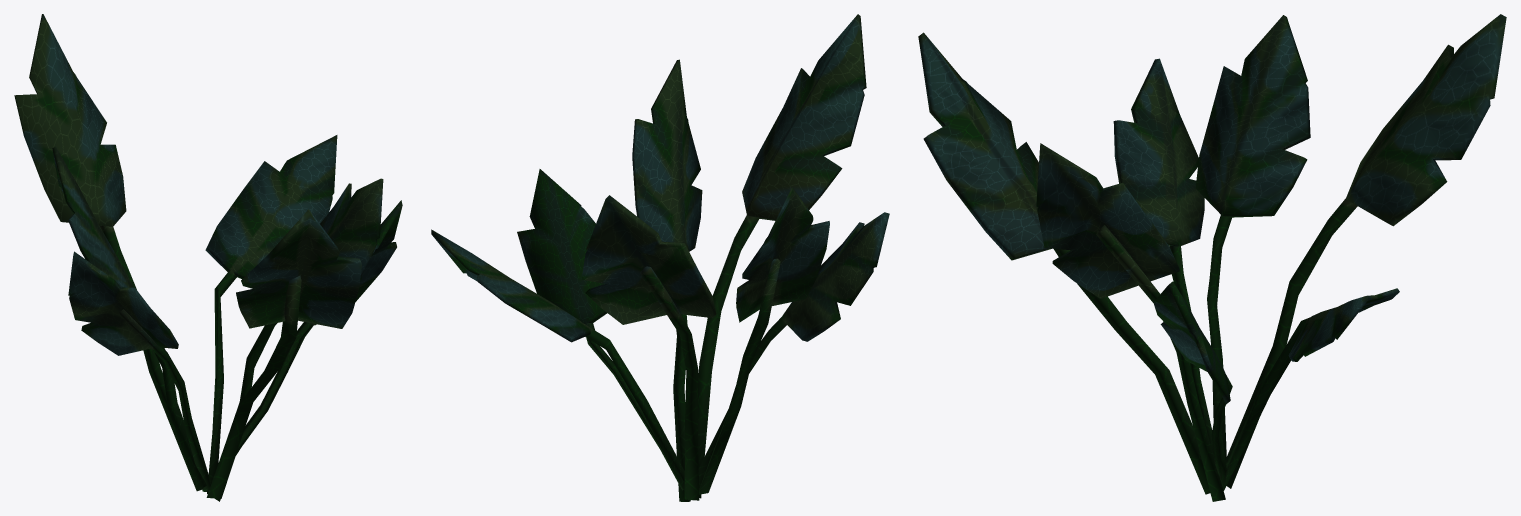
Rendered from floorPlants_V1.fbx.
3 renders of one model, left to right at view 1: azimuth 30°, elevation 25°; view 2: azimuth 150°, elevation 25°; view 3: azimuth 270°, elevation 25°, orthographic. The views are drawn at different scales.
Visible parts, largest first — view 1: LP_PLants; view 2: LP_PLants; view 3: LP_PLants.
Boxes of the visible parts, x1,y1,x2,y2 form: LP_PLants: (14,14,402,501); LP_PLants: (431,14,889,501); LP_PLants: (918,14,1506,501).
Size of the model in its own units: 859 by 934 by 1081.
Materials: 1 (1 with a texture image).
